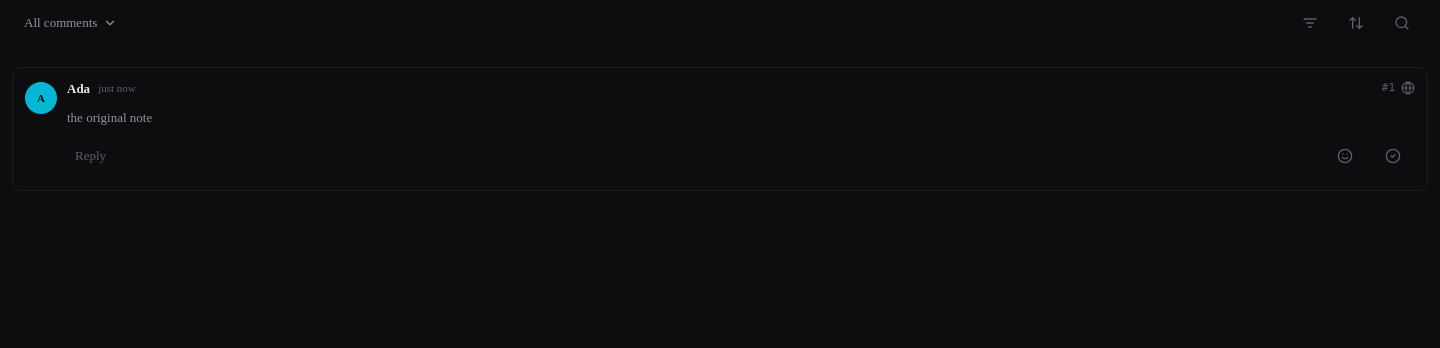
it: a reply never fails silently › states why Send is dead while the box is empty (17c)
Click the button "Reply".
click(91, 156)  # box [67,134,114,178]
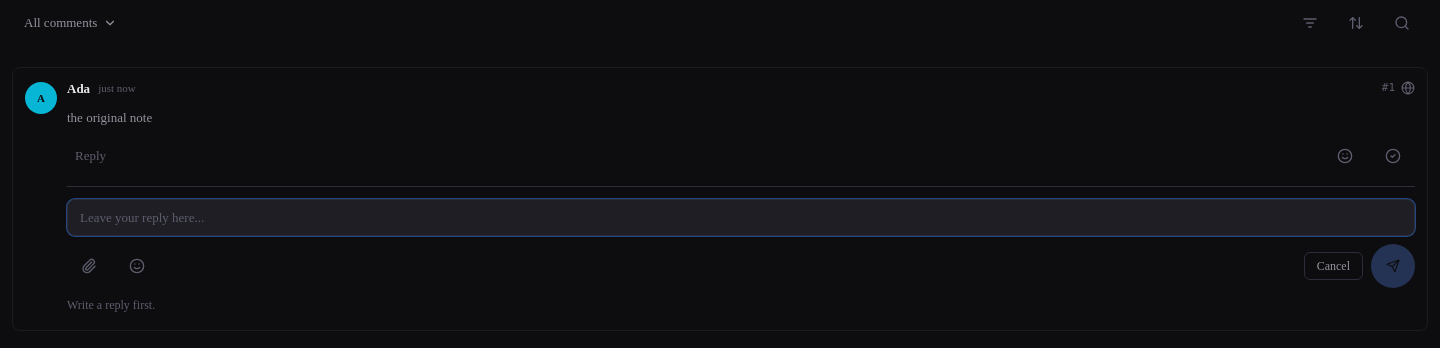
Expected: the button named "send reply" is disabled, [1371,244,1415,288]
Expected: the text "Write a reply first." is shown, [67,298,155,312]
Type "x" into the field with placeholder "Leave your reply here...".
click(741, 217); type("x")  # box [67,199,1415,236]
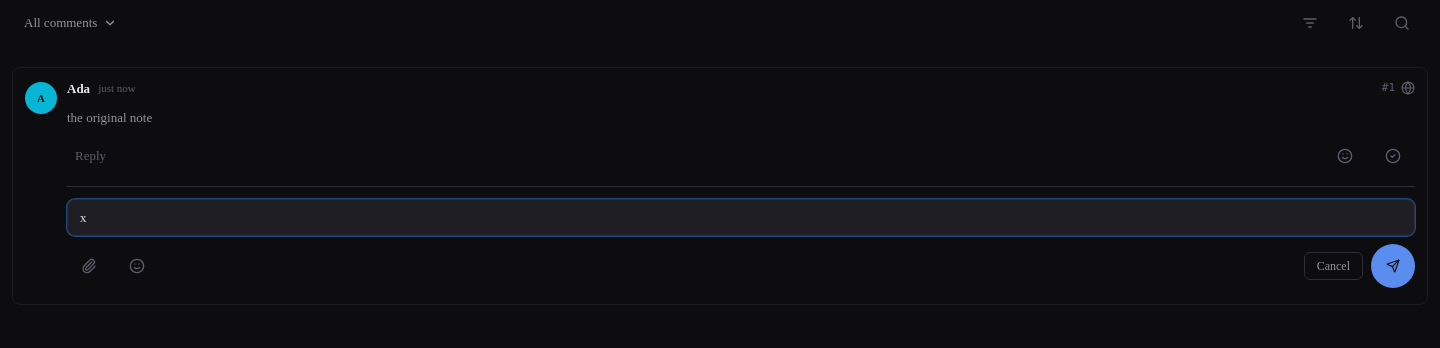
Expected: the button named "send reply" is enabled, [1371,244,1415,288]
Expected: the text "Write a reply first" is gone
